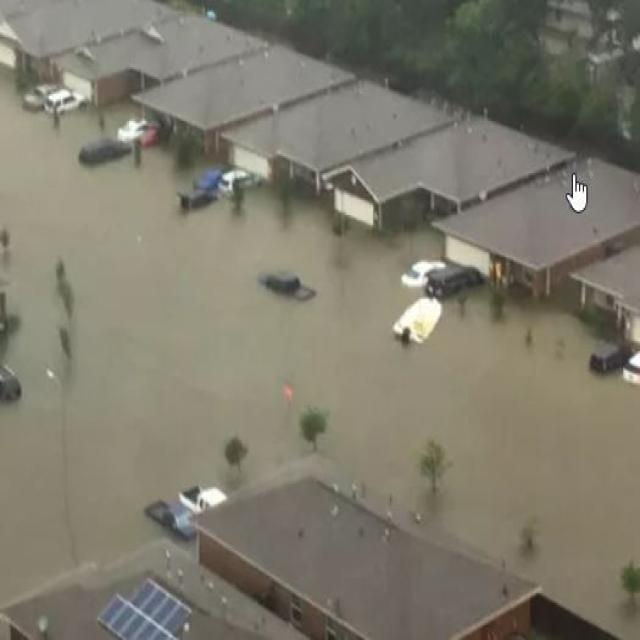flooded_areas: (0, 32, 639, 600)
